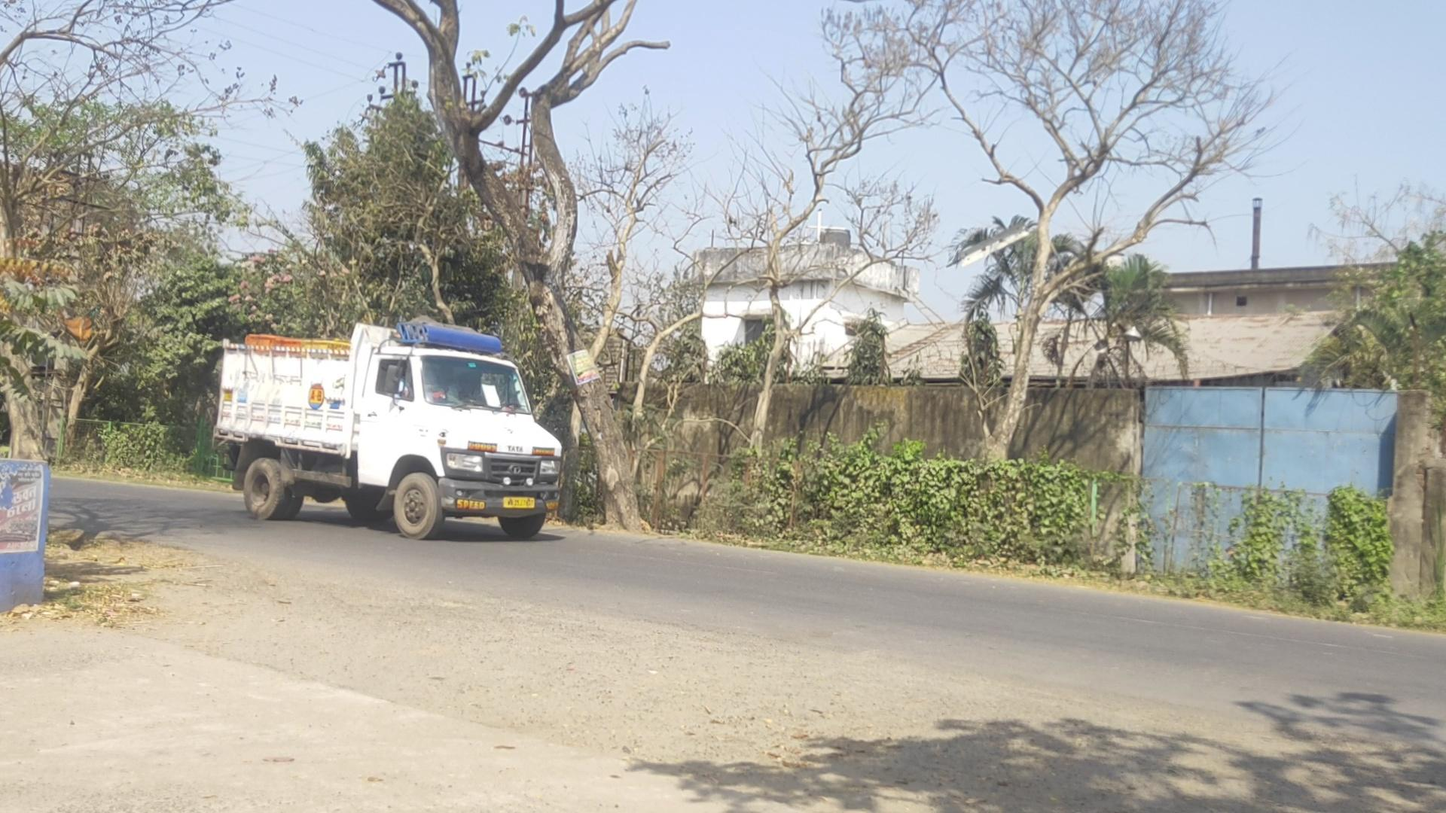truck: (211, 321, 562, 541)
